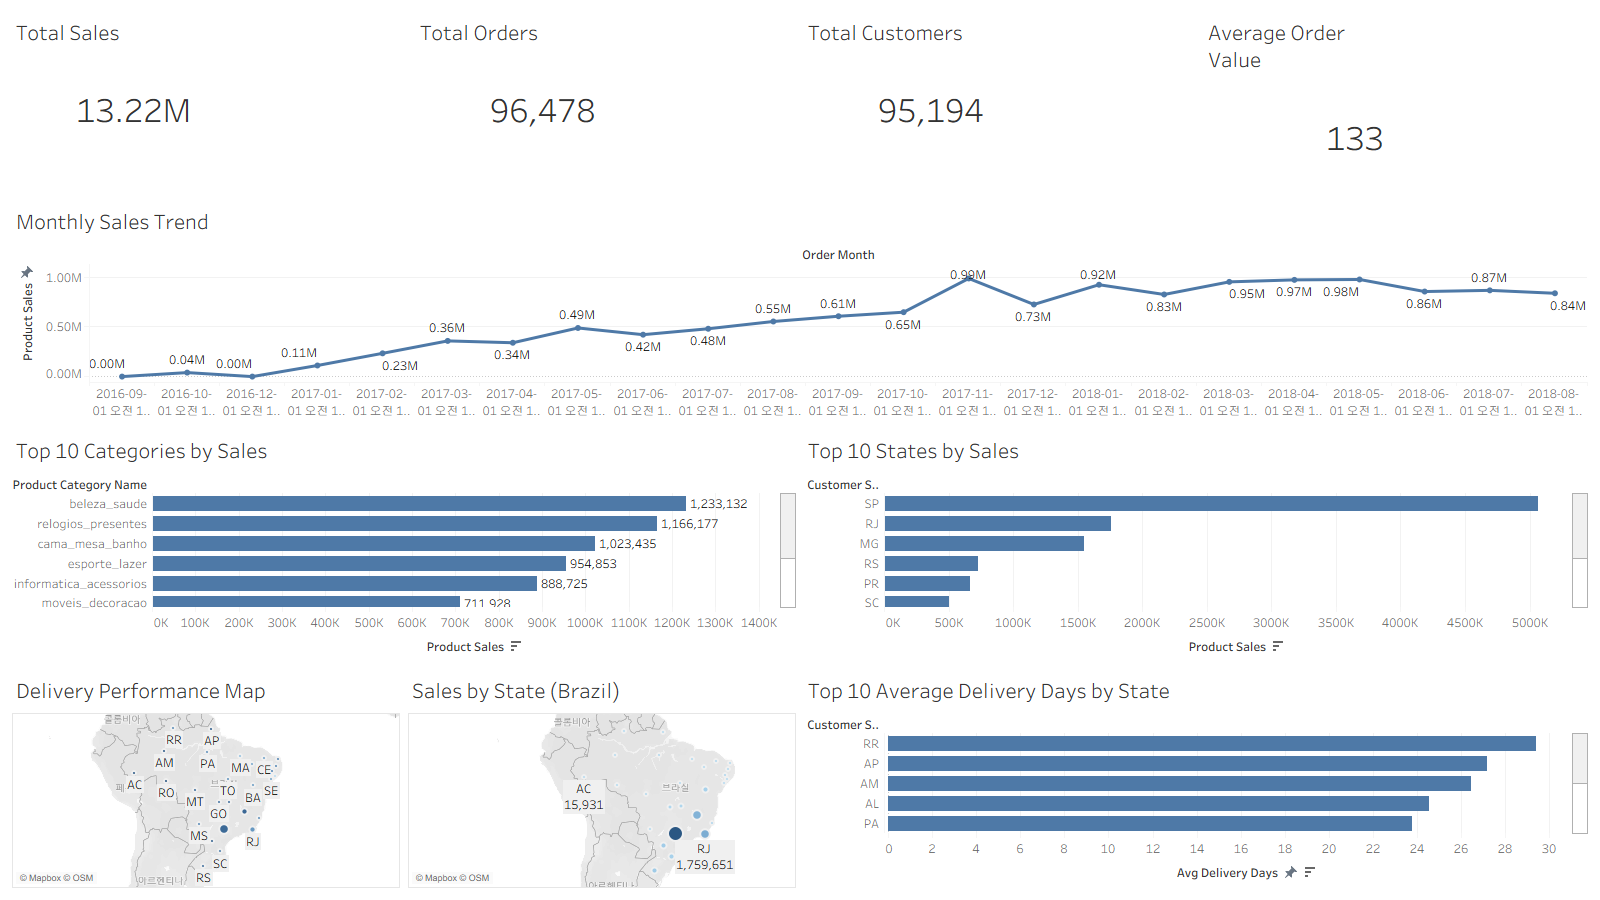

Layout of this report page (visuals, bound fields, positions):
{"tool":"tableau","page":{"name":"Olist Executive Sales Dashboard","canvas":[1600,900],"ordinal":0},"visuals":[{"type":"worksheet","title":"Total Sales","mark":"Text","box":[8,8,404,189]},{"type":"worksheet","title":"Total Orders","mark":"Text","box":[412,8,388,189]},{"type":"worksheet","title":"Total Customers","mark":"Text","box":[800,8,400,189]},{"type":"worksheet","title":"Average Order Value","mark":"Text","box":[1200,8,392,189]},{"type":"worksheet","title":"Monthly Sales Trend","mark":"Automatic","rows":["product_sales"],"cols":["order_month"],"box":[8,197,1584,229]},{"type":"worksheet","title":"Top 10 Categories by Sales","mark":"Automatic","rows":["product_category_name"],"cols":["product_sales"],"box":[8,426,792,240]},{"type":"worksheet","title":"Top 10 States by Sales","mark":"Automatic","rows":["customer_state"],"cols":["product_sales"],"box":[800,426,792,240]},{"type":"worksheet","title":"Delivery Performance Map","mark":"Automatic","box":[8,666,396,226]},{"type":"worksheet","title":"Sales by State (Brazil)","mark":"Automatic","box":[404,666,396,226]},{"type":"worksheet","title":"Top 10 Average Delivery Days by State","mark":"Automatic","rows":["customer_state"],"cols":["avg_delivery_days"],"box":[800,666,792,226]}]}

Visuals, with their boxes in screenshot pixels (x1, y1, x2, y2), scaled from the page's 1600x900 canvas onto the 1600x900 screenshot:
"Total Sales" worksheet (Text marks): {"left": 8, "top": 8, "right": 412, "bottom": 197}
"Total Orders" worksheet (Text marks): {"left": 412, "top": 8, "right": 800, "bottom": 197}
"Total Customers" worksheet (Text marks): {"left": 800, "top": 8, "right": 1200, "bottom": 197}
"Average Order Value" worksheet (Text marks): {"left": 1200, "top": 8, "right": 1592, "bottom": 197}
"Monthly Sales Trend" worksheet: {"left": 8, "top": 197, "right": 1592, "bottom": 426}
"Top 10 Categories by Sales" worksheet: {"left": 8, "top": 426, "right": 800, "bottom": 666}
"Top 10 States by Sales" worksheet: {"left": 800, "top": 426, "right": 1592, "bottom": 666}
"Delivery Performance Map" worksheet: {"left": 8, "top": 666, "right": 404, "bottom": 892}
"Sales by State (Brazil)" worksheet: {"left": 404, "top": 666, "right": 800, "bottom": 892}
"Top 10 Average Delivery Days by State" worksheet: {"left": 800, "top": 666, "right": 1592, "bottom": 892}
